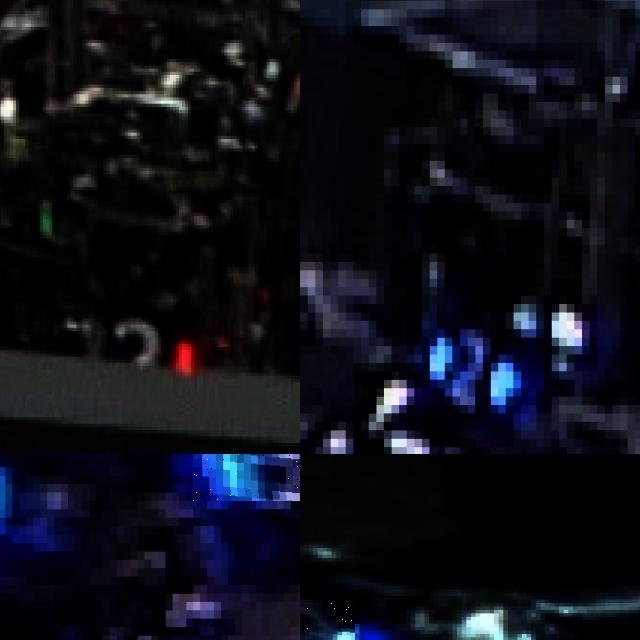B2: (422, 321, 521, 413)
B3: (193, 454, 300, 500)
Bs: (300, 599, 355, 640)
